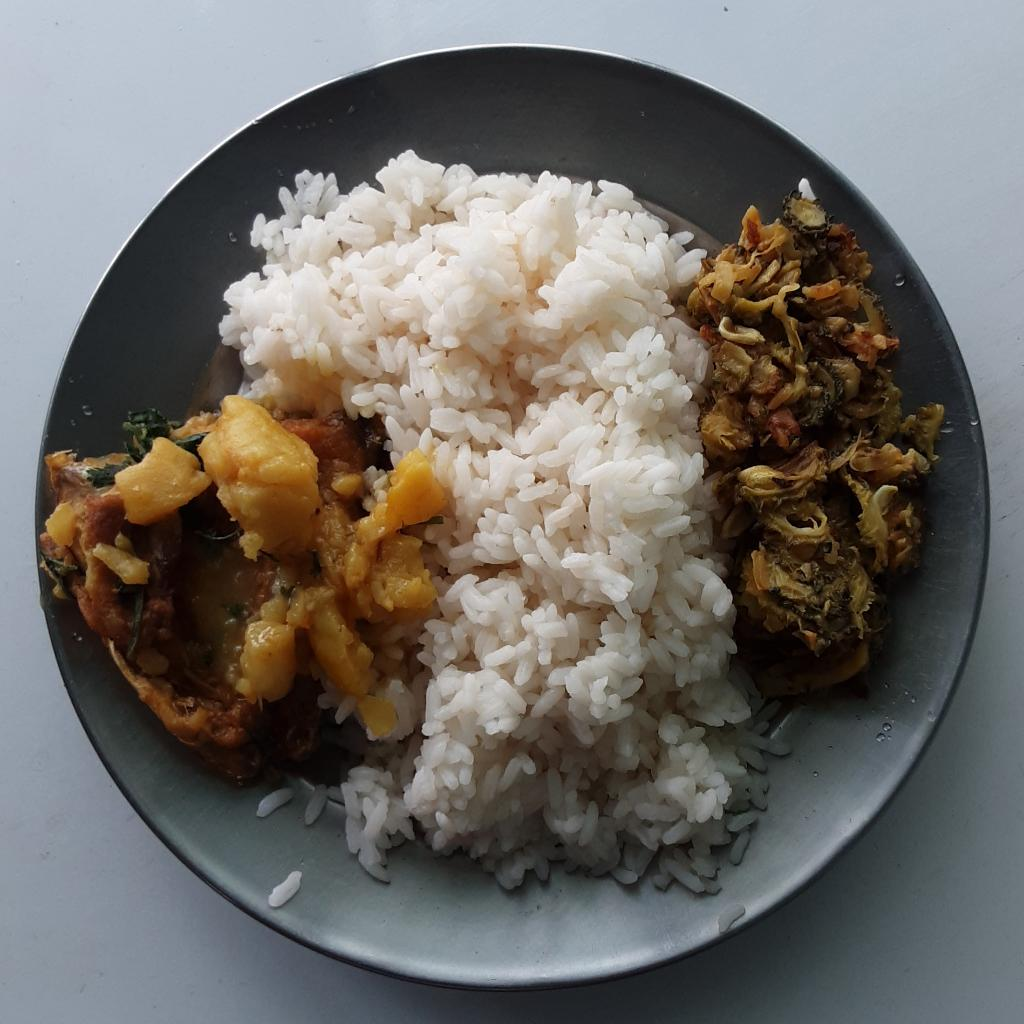fish: (40, 383, 370, 788)
korola-vaji: (677, 180, 937, 706)
potato: (117, 395, 451, 739)
rice: (219, 144, 791, 932)
